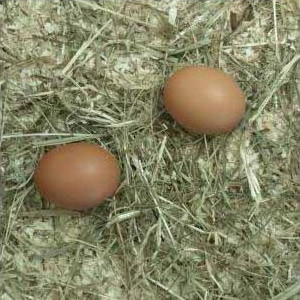egg: (34, 143, 121, 212), (164, 66, 246, 135)
